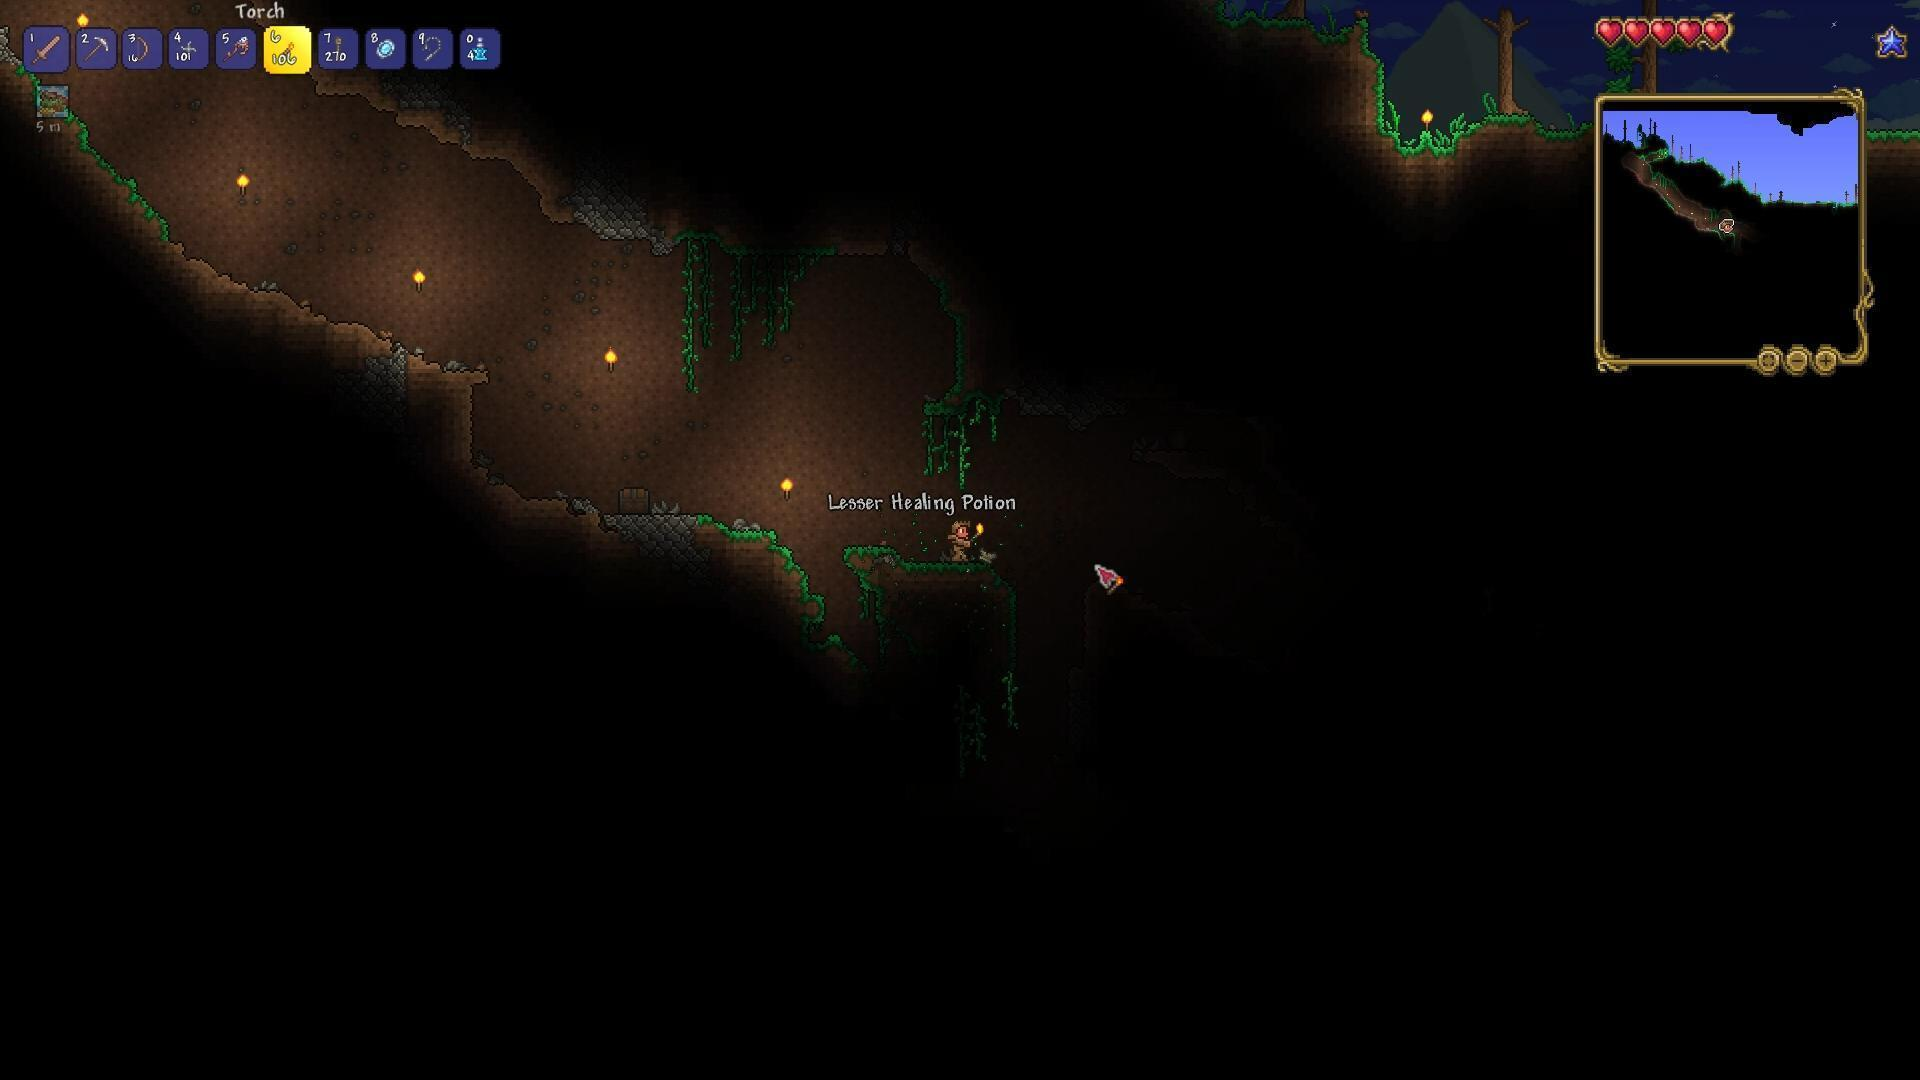bow: (131, 33, 150, 65)
chest: (616, 483, 655, 517)
pickaxe: (80, 34, 112, 62)
recallP: (473, 37, 492, 62)
rope: (330, 34, 345, 62)
shuriken: (179, 40, 198, 59)
sword: (29, 32, 63, 66)
